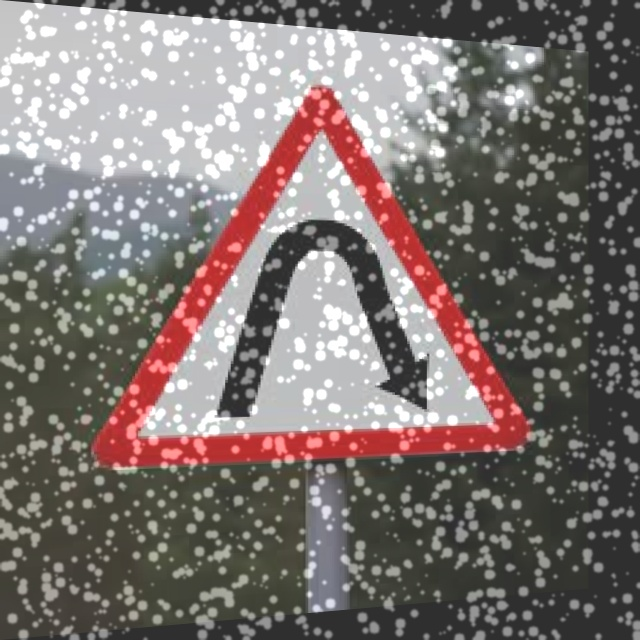Right_Hair_Pin_Bend: (97, 71, 523, 463)
